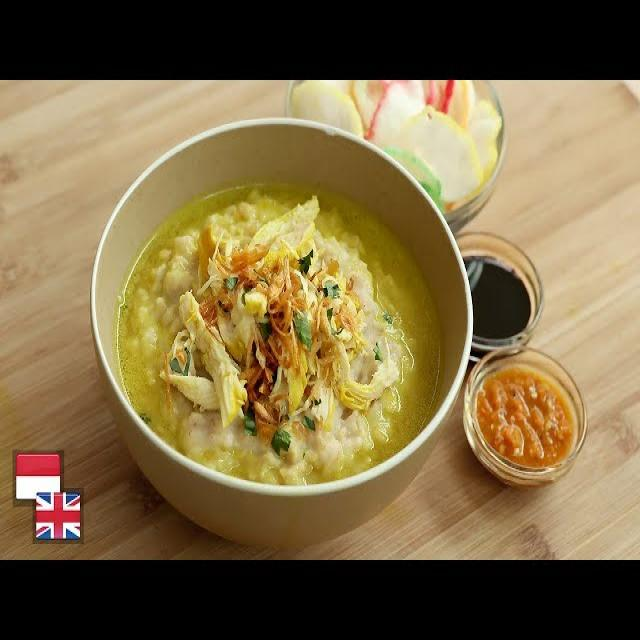bubur ayam: (121, 180, 445, 481)
mangkuk: (90, 120, 473, 548), (285, 80, 509, 234), (462, 346, 588, 490)
sambal: (476, 372, 574, 468)
